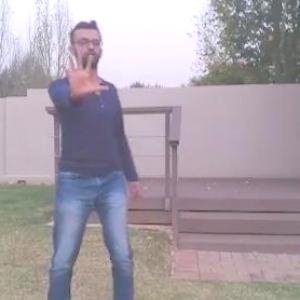follow_hand: (57, 47, 110, 95)
